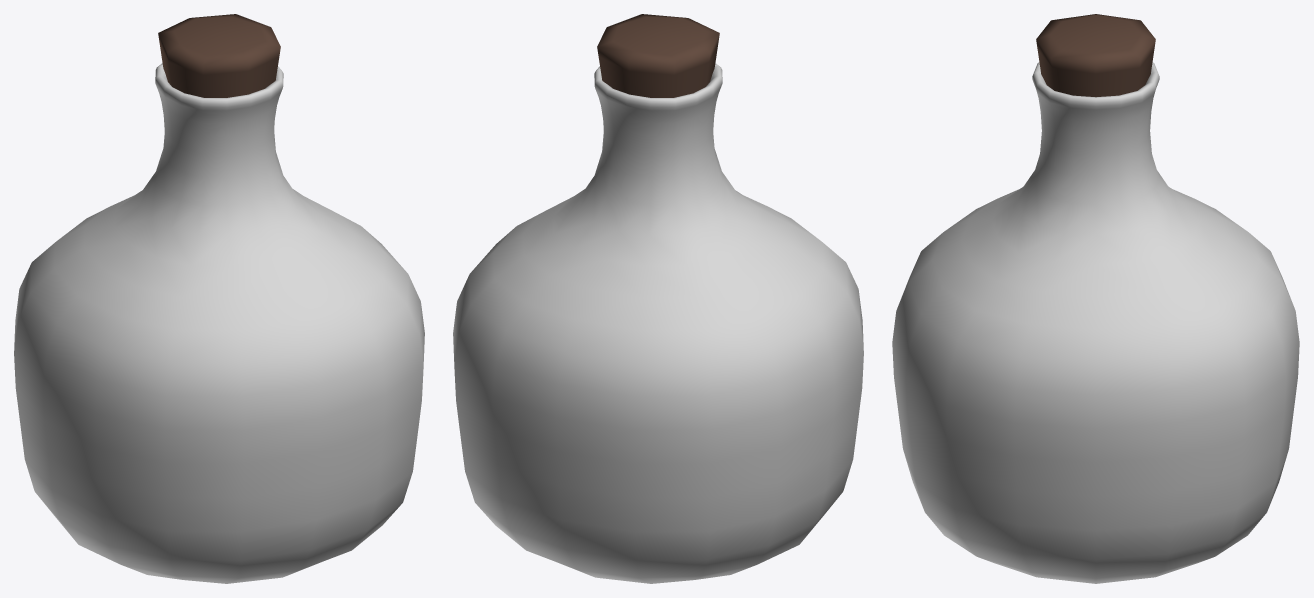
Rendered from Potion2_Empty.glb.
The picture shows the model from 3 angles, left to right: view 1: azimuth 30°, elevation 25°; view 2: azimuth 150°, elevation 25°; view 3: azimuth 270°, elevation 25°; orthographic projection.
Visible parts, largest first — view 1: Potion2_Empty_Cube.133; view 2: Potion2_Empty_Cube.133; view 3: Potion2_Empty_Cube.133.
Boxes of the visible parts, x1,y1,x2,y2 form: Potion2_Empty_Cube.133: (14,14,424,583); Potion2_Empty_Cube.133: (453,14,863,583); Potion2_Empty_Cube.133: (892,14,1299,583).
Size of the model in its own units: 0.8768 by 1.22 by 0.8768.
